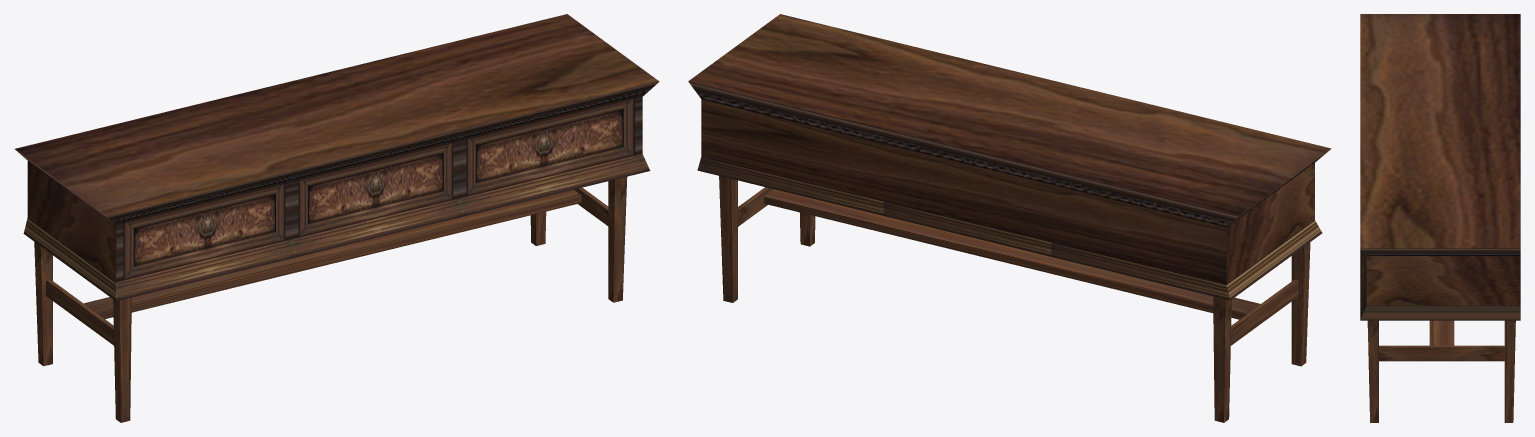
Rendered from Table06.glb.
3 views of the same model, side by side, from view 1: azimuth 30°, elevation 25°; view 2: azimuth 150°, elevation 25°; view 3: azimuth 270°, elevation 25° (orthographic). The views are drawn at different scales.
Parts seen in each view (by area): view 1: _Table06; view 2: _Table06; view 3: _Table06.
Boxes of the visible parts, <box> form: _Table06: <box>15,14,659,422</box>; _Table06: <box>688,14,1331,422</box>; _Table06: <box>1360,14,1520,422</box>.
Bounding box in the file's own units: 2.85 × 1.06 × 0.824.
Materials: 1 (1 with a texture image).
